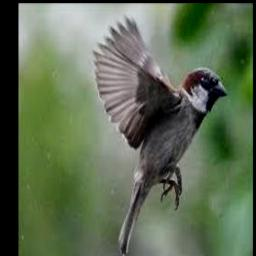Sparrow: (93, 15, 227, 256)
